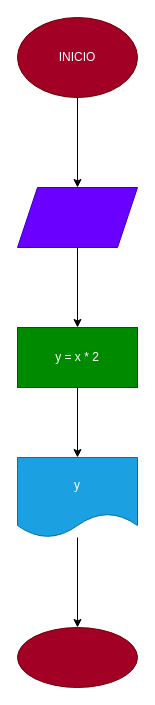
Some shapes in this 155 by 705 pixel diagram are drawn without their labels. Here are the shapes that lost their labels. From the top down, the box of each, then its label:
(16, 186, 138, 248): x , y
(16, 626, 138, 688): FIN
